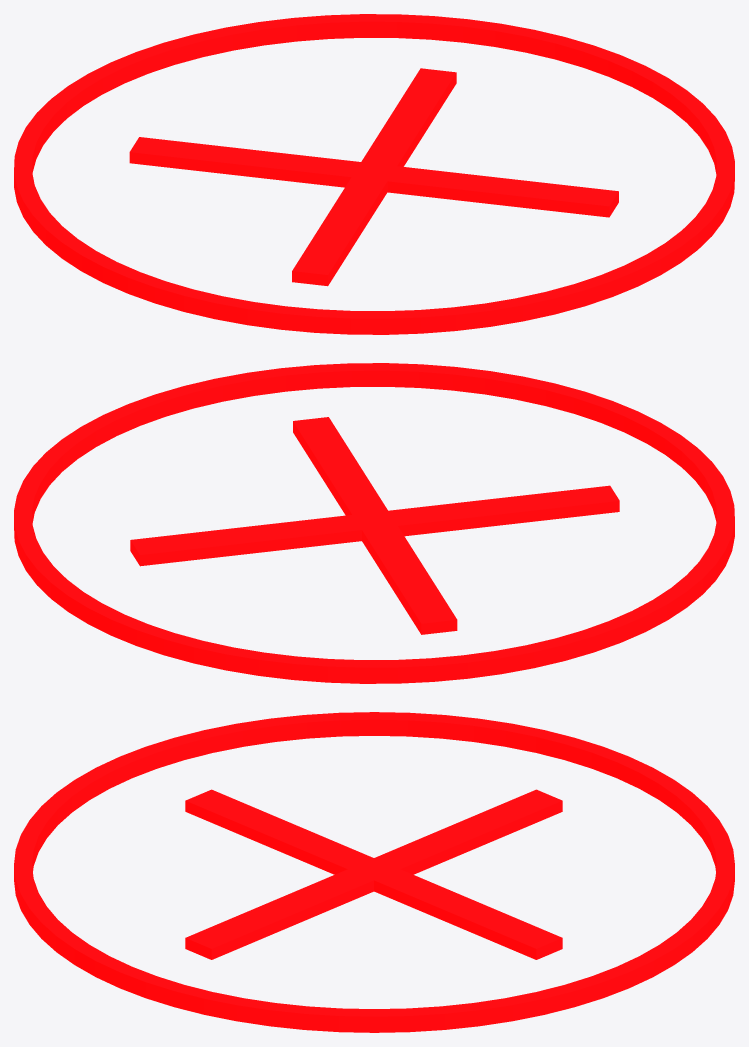
Rendered from no-icon-1m.glb.
3 views of the same model, one above another, from view 1: azimuth 30°, elevation 25°; view 2: azimuth 150°, elevation 25°; view 3: azimuth 270°, elevation 25° (orthographic).
Visible parts, largest first — view 1: no-icon; view 2: no-icon; view 3: no-icon.
Boxes of the visible parts, x1,y1,x2,y2 form: no-icon: (14, 14, 734, 334); no-icon: (14, 363, 734, 683); no-icon: (14, 712, 734, 1032).
Size of the model in its own units: 0.9 by 0.0222 by 0.9.
